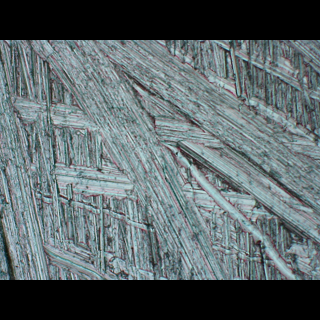d: (0, 41, 317, 279)
